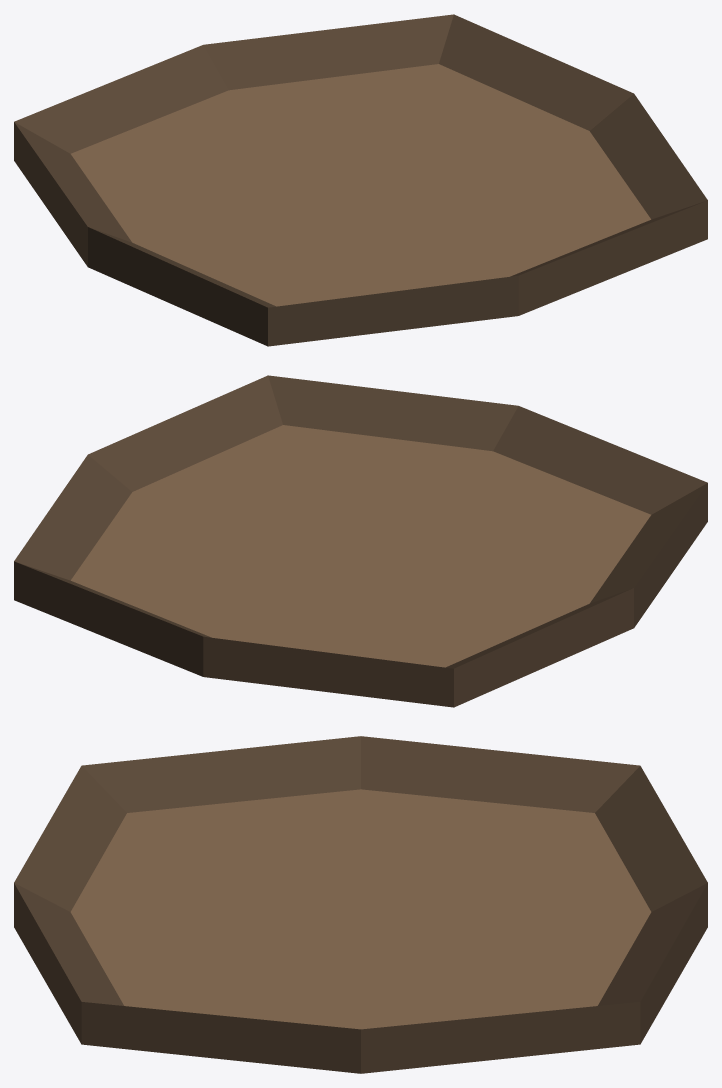
Rendered from Plate_3_Brown.fbx.
3 renders of one model, top to bottom at view 1: azimuth 30°, elevation 25°; view 2: azimuth 150°, elevation 25°; view 3: azimuth 270°, elevation 25°, orthographic. The views are drawn at different scales.
Parts seen in each view (by area): view 1: Plate_3_Brown_Part_2, Plate_3_Brown_Part_1; view 2: Plate_3_Brown_Part_2, Plate_3_Brown_Part_1; view 3: Plate_3_Brown_Part_2, Plate_3_Brown_Part_1.
Boxes of the visible parts, x1,y1,x2,y2 form: Plate_3_Brown_Part_2: [71, 64, 650, 306]; Plate_3_Brown_Part_1: [14, 14, 707, 346]; Plate_3_Brown_Part_2: [71, 425, 650, 667]; Plate_3_Brown_Part_1: [14, 375, 707, 707]; Plate_3_Brown_Part_2: [70, 789, 651, 1029]; Plate_3_Brown_Part_1: [14, 736, 707, 1073].
Size of the model in its own units: 25 by 1.77 by 25.
